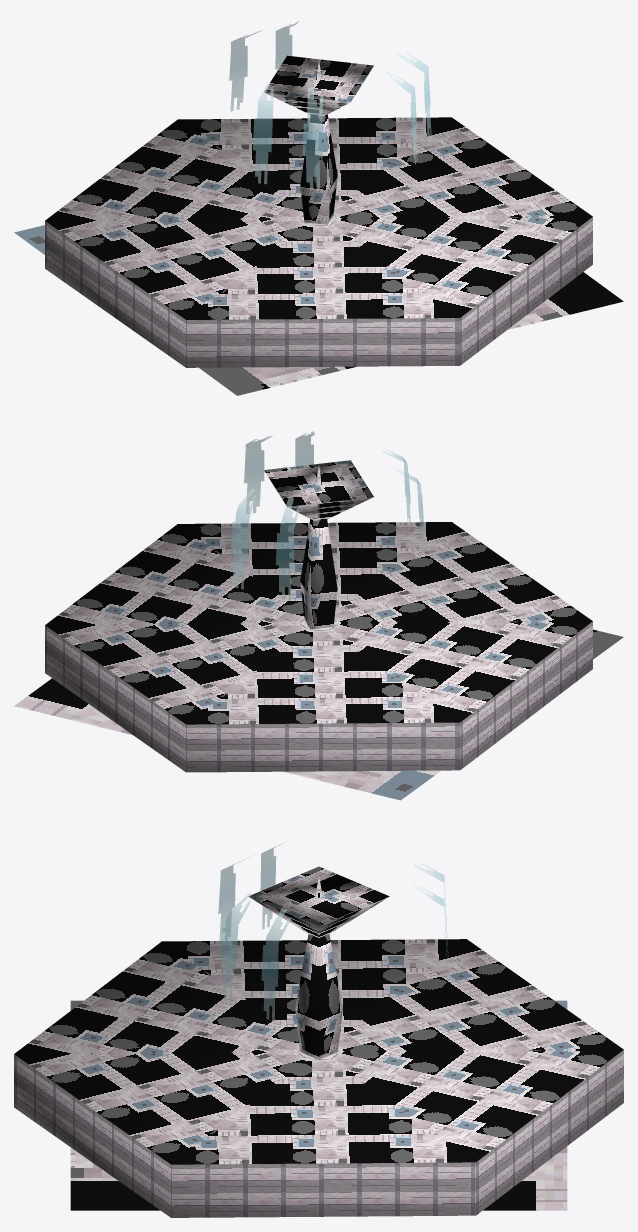
File: 3413IMIG20_12.gltf
3 views of the same model, one above another, from view 1: azimuth 30°, elevation 25°; view 2: azimuth 150°, elevation 25°; view 3: azimuth 270°, elevation 25° (orthographic). The views are drawn at different scales.
Visible parts, largest first — view 1: 3413IMIG20_12; view 2: 3413IMIG20_12; view 3: 3413IMIG20_12.
Boxes of the visible parts, box(x1,y1,x2,y2) form: 3413IMIG20_12: box(14, 21, 623, 395); 3413IMIG20_12: box(14, 431, 623, 800); 3413IMIG20_12: box(14, 843, 623, 1217).
Bounding box in the file's own units: 1.6 × 0.8452 × 1.82.
Materials: 4 (4 with a texture image).
